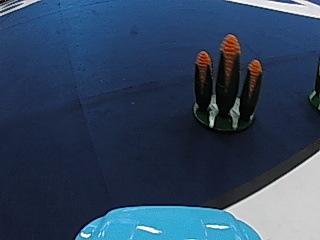corn: (189, 35, 265, 133)
